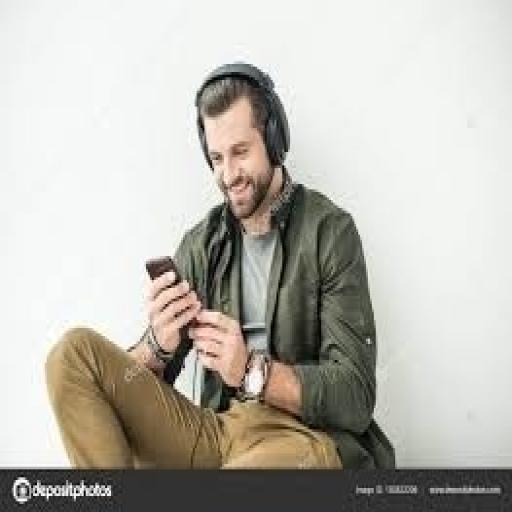listening_to_music: (43, 59, 381, 472)
